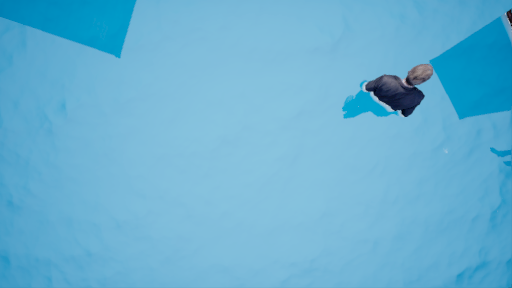person: (330, 60, 436, 129)
